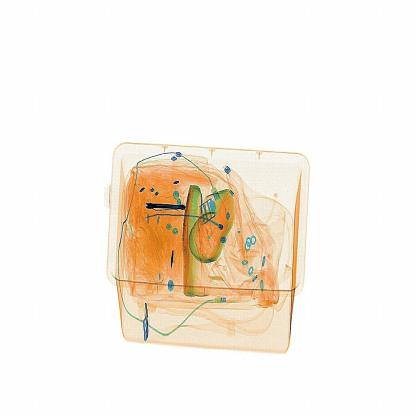knife: (146, 200, 190, 219)
